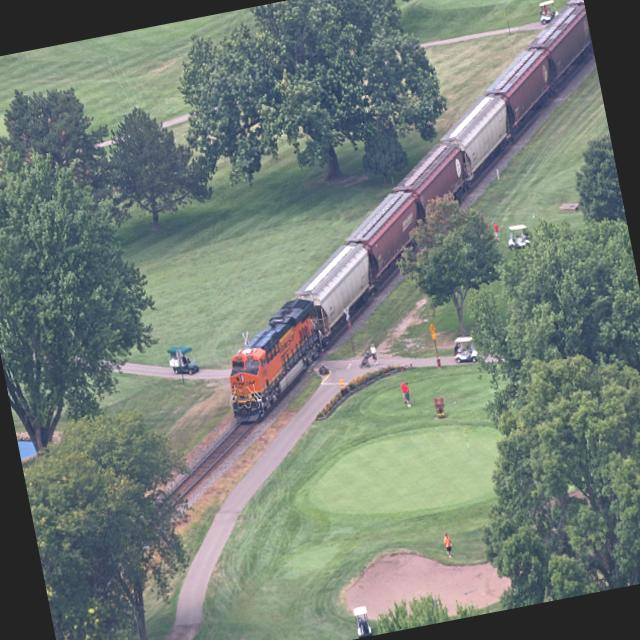Vehicle: (166, 342, 200, 379)
